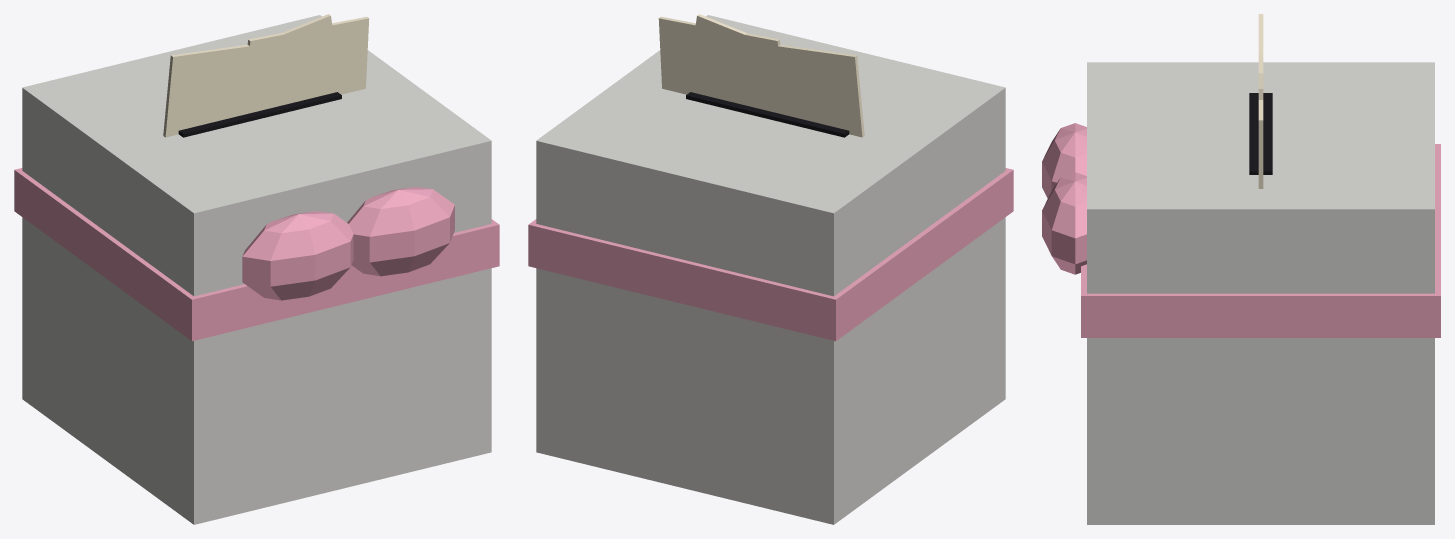
The model's file is gift_urn.glb.
The picture shows the model from 3 angles, left to right: view 1: azimuth 30°, elevation 25°; view 2: azimuth 150°, elevation 25°; view 3: azimuth 270°, elevation 25°; orthographic projection.
Visible parts, largest first — view 1: box_gift_box, box_wedding_cake_ribbon, envelopes_envelope, box_black; view 2: box_gift_box, box_wedding_cake_ribbon, envelopes_envelope, box_black; view 3: box_gift_box, box_wedding_cake_ribbon, box_black, envelopes_envelope.
Boxes of the visible parts, x1,y1,x2,y2 form: box_gift_box: (22,15,491,524); box_wedding_cake_ribbon: (14,168,499,341); envelopes_envelope: (163,14,369,137); box_black: (178,92,341,137); box_gift_box: (536,15,1005,524); box_wedding_cake_ribbon: (528,168,1013,341); envelopes_envelope: (658,14,864,137); box_black: (686,92,849,137); box_gift_box: (1087,62,1434,524); box_wedding_cake_ribbon: (1042,123,1440,337); box_black: (1249,93,1272,174); envelopes_envelope: (1258,14,1263,188).
Size of the model in its own units: 0.31 by 0.3785 by 0.3435.
